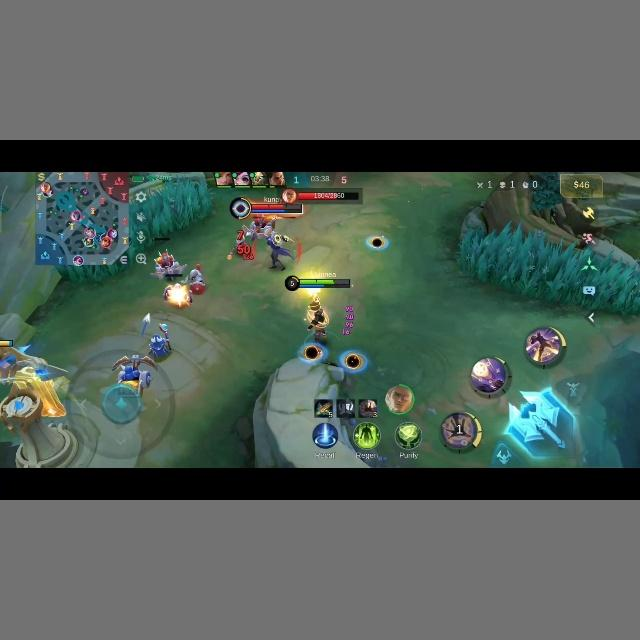hp_enemy: (228, 190, 360, 214), (236, 200, 303, 217), (297, 191, 356, 201), (152, 237, 170, 241)
hp_self: (284, 276, 351, 291)
minion_ally: (111, 353, 158, 397), (163, 282, 193, 308), (148, 326, 172, 357)
minion_enemy: (149, 250, 186, 280), (243, 217, 278, 244), (183, 263, 207, 296)
turret_ally: (0, 343, 67, 388)
